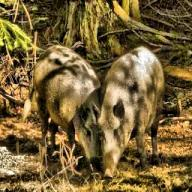boar: (96, 45, 165, 179)
